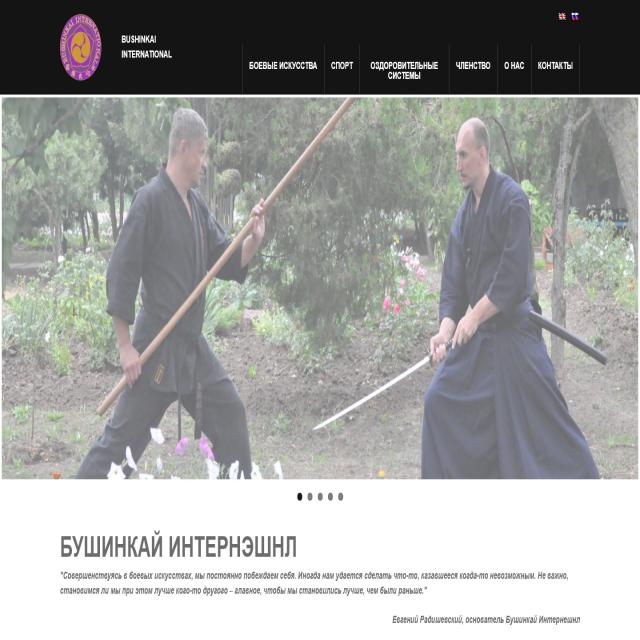button: (360, 44, 449, 92), (243, 46, 323, 92), (448, 44, 499, 92), (532, 43, 578, 93), (324, 45, 359, 92), (500, 44, 531, 92)
heading: (58, 530, 298, 561), (121, 32, 174, 64)
image: (1, 97, 638, 480), (59, 12, 102, 82)
text: (59, 568, 571, 598), (391, 612, 582, 628)
